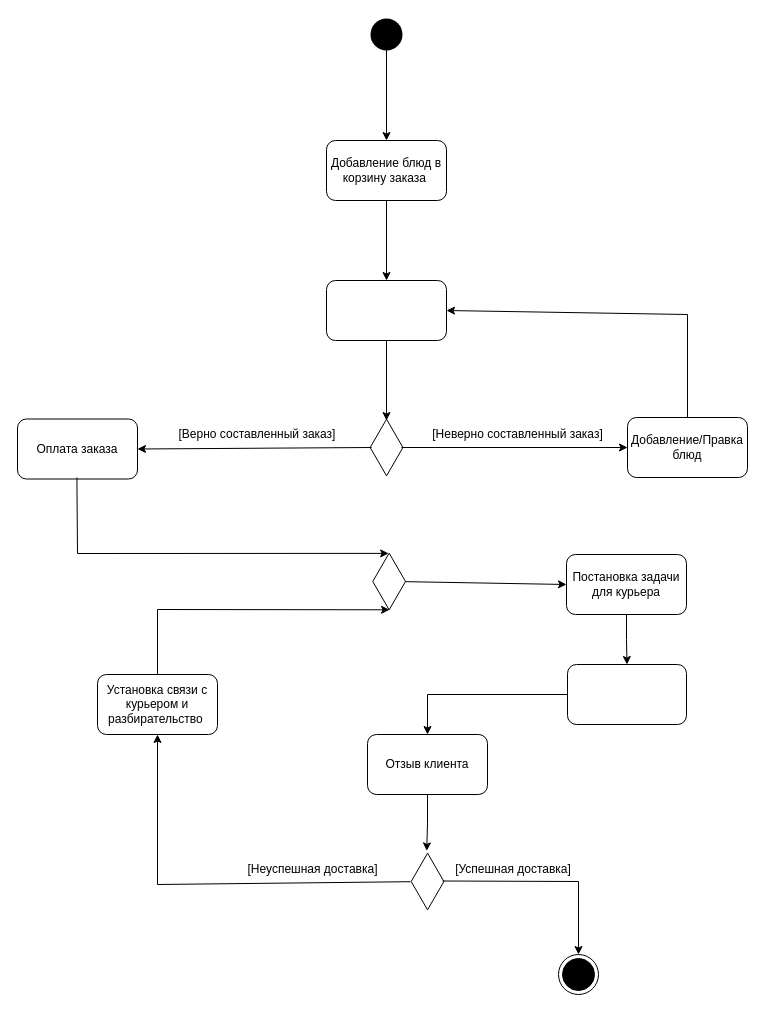
Image size: 765x1012. Some labels were removed from this diagram. The centre of each missing label's shape, as x and y in pixels:
"Доставка заказа" belongs at (x=626, y=694).
"Подтверждение заказа" belongs at (x=386, y=310).
